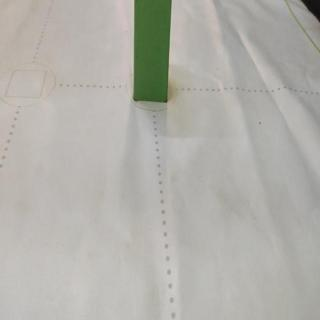greenbox: (132, 1, 173, 102)
